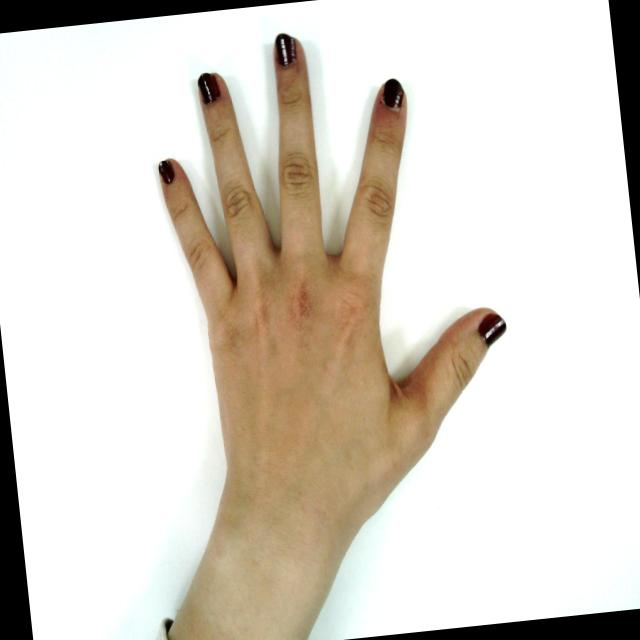Nail: (477, 313, 505, 346), (195, 71, 218, 103), (273, 31, 295, 64), (381, 76, 402, 108), (156, 159, 172, 183)
